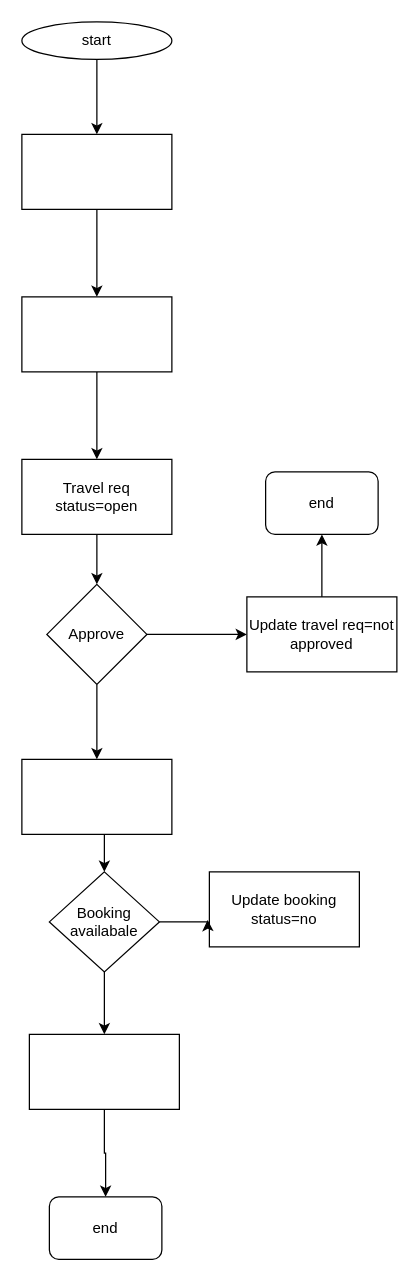
The diagram is 419 pixels wide and 1281 high, and some of its shapes have lost their labels. The shapes that lost their labels are listed below. From the top down, each one's centre as x and y in pixels, then its label:
point 96,171: Add employee
point 96,334: Raise travel request
point 96,796: Approve status=approved
point 103,1071: Update travel req =closed & booking available=Yes
